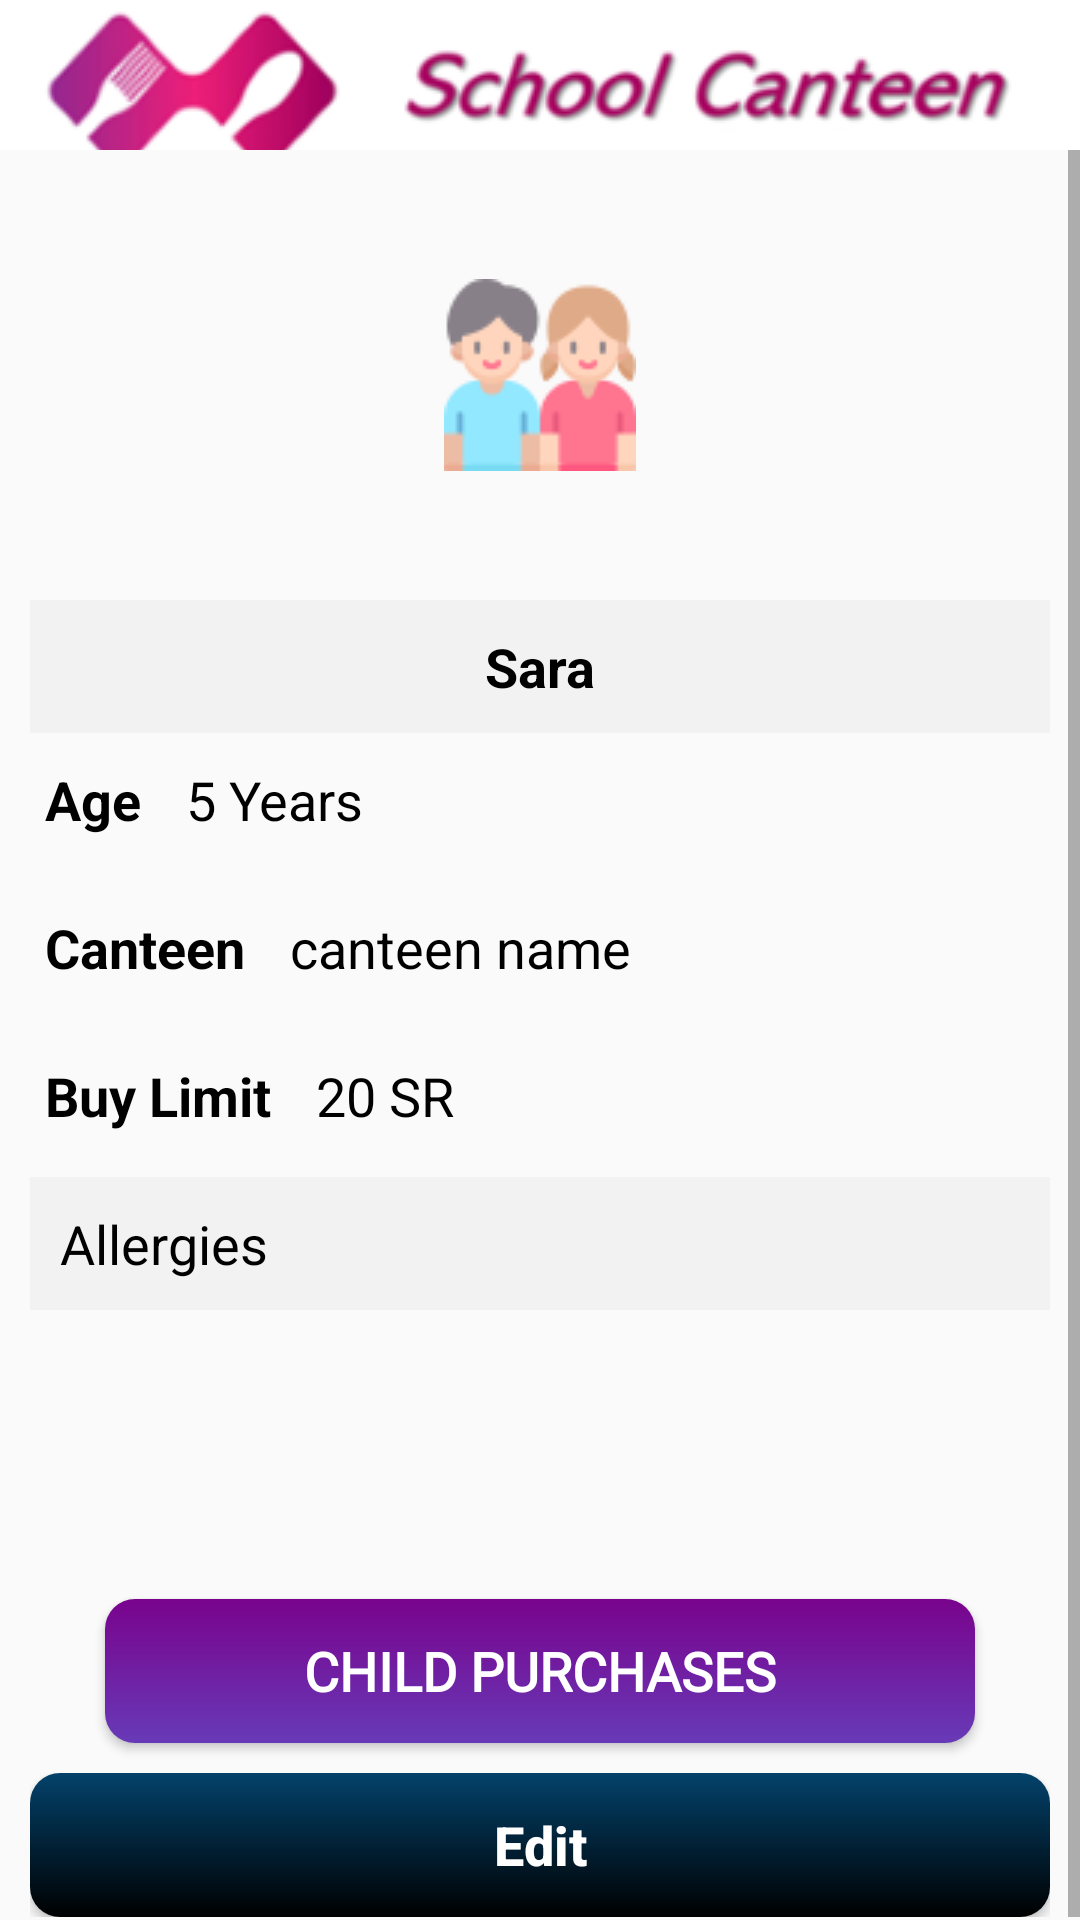

Screen size 1080×1920. Icon name, then its box in pixels as rect(x1, y1, x2, y2):
children: rect(444, 279, 636, 471)
